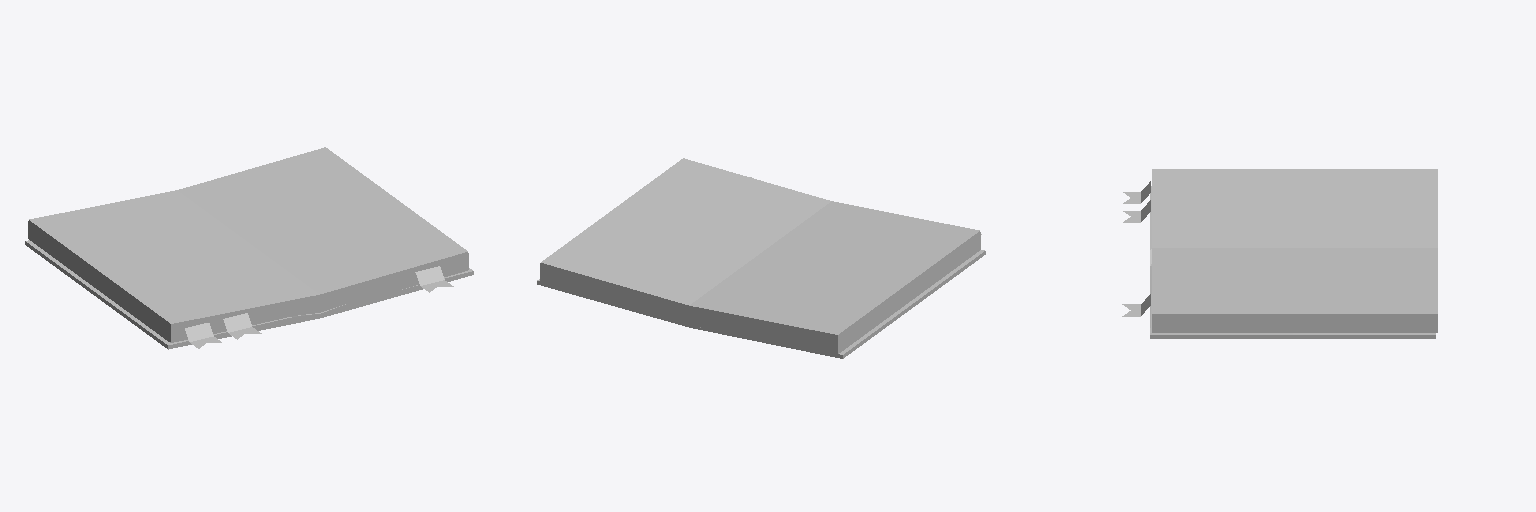
The model's file is book decoration empty.obj.
The picture shows the model from 3 angles: view 1: azimuth 30°, elevation 25°; view 2: azimuth 150°, elevation 25°; view 3: azimuth 270°, elevation 25°; orthographic projection.
Visible parts, largest first — view 1: Cube.000, Cube.001b, Cube.001a; view 2: Cube.000; view 3: Cube.000.
Part boxes in pixels (x1,y1,x2,y2): Cube.000: (25,147,473,349); Cube.001b: (223,313,261,339); Cube.001a: (185,323,221,348); Cube.000: (537,158,985,358); Cube.000: (1122,169,1437,338).
Bounding box in the file's own units: 12.36 × 1.15 × 11.05.